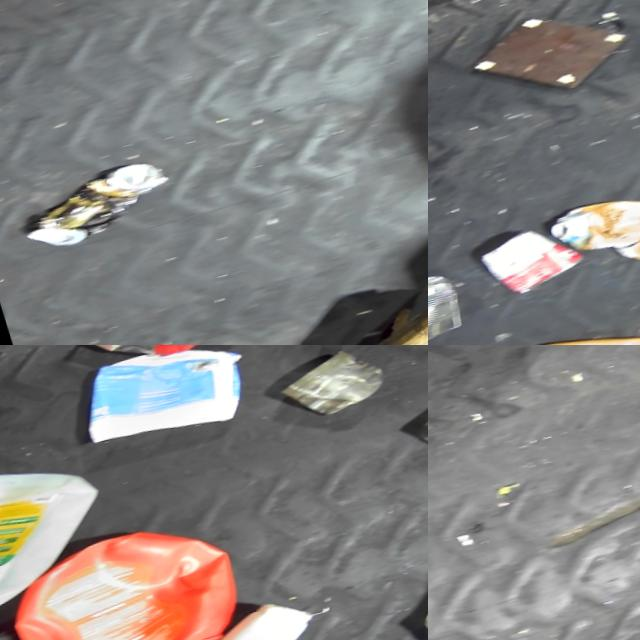can: (3, 156, 174, 257), (428, 267, 462, 345), (403, 381, 428, 464)
milk_jug: (0, 443, 123, 633)
non_white_jug: (0, 510, 253, 640), (538, 174, 640, 299), (493, 302, 640, 345)
